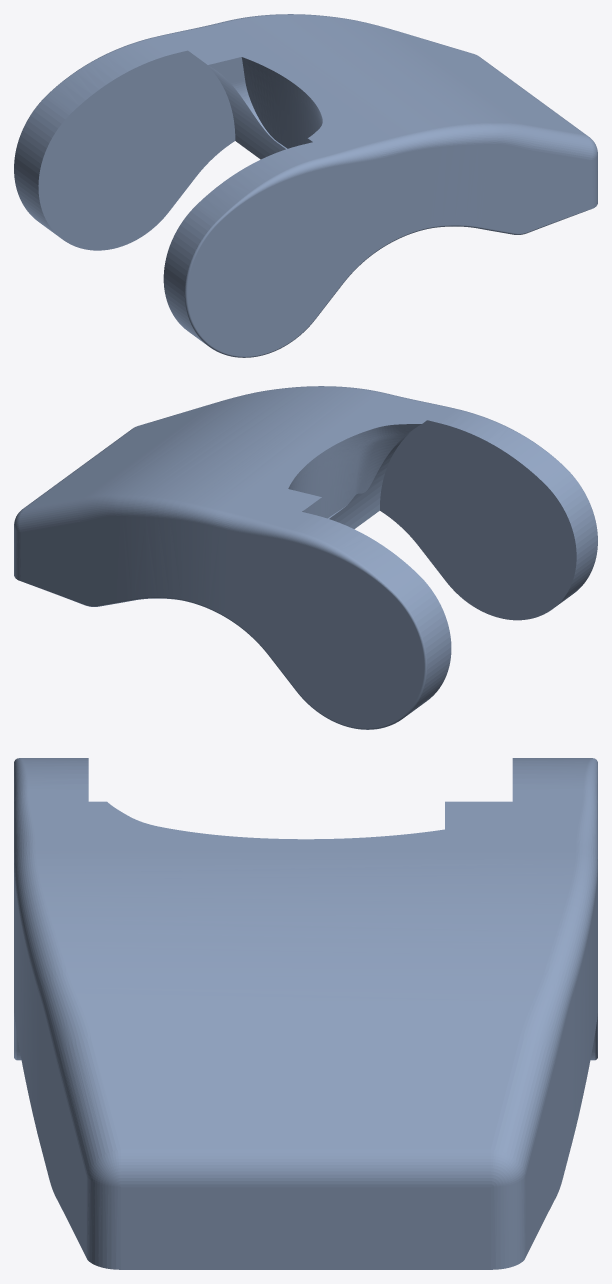
The model's file is z1_GripperMover.dae.
3 renders of one model, top to bottom at view 1: azimuth 30°, elevation 25°; view 2: azimuth 150°, elevation 25°; view 3: azimuth 270°, elevation 25°, orthographic. The views are drawn at different scales.
Parts seen in each view (by area): view 1: z1_GripperMover; view 2: z1_GripperMover; view 3: z1_GripperMover.
Part boxes in pixels (<box>): z1_GripperMover: <box>14,14,597,357</box>; z1_GripperMover: <box>14,386,597,729</box>; z1_GripperMover: <box>14,758,597,1269</box>.
Size of the model in its own units: 0.121 by 0.082 by 0.0472.
